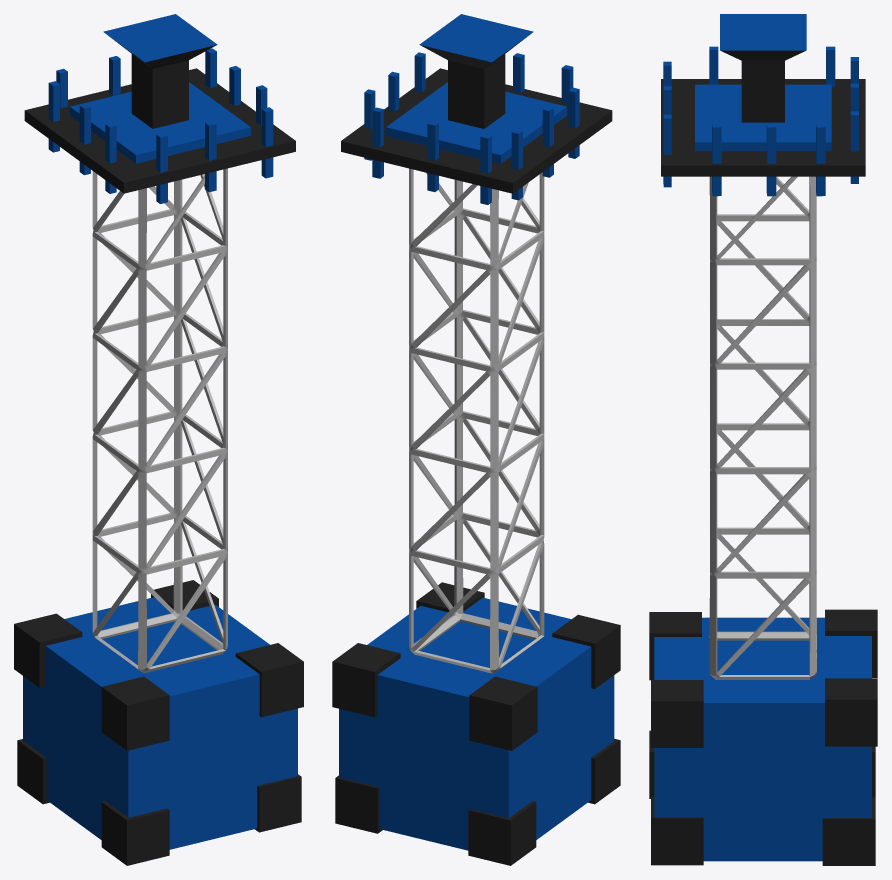
File: Blue Borj Electric.fbx
The picture shows the model from 3 angles, left to right: view 1: azimuth 30°, elevation 25°; view 2: azimuth 150°, elevation 25°; view 3: azimuth 270°, elevation 25°; orthographic projection. The views are drawn at different scales.
Parts seen in each view (by area): view 1: polySurface21, polySurface23, polySurface22, polySurface10, polySurface11, polySurface12, polySurface20, polySurface9, polySurface14, polySurface13, polySurface16, polySurface18 (+4 smaller); view 2: polySurface21, polySurface23, polySurface22, polySurface20, polySurface14, polySurface13, polySurface10, polySurface6, polySurface11, polySurface12, polySurface2, polySurface3 (+4 smaller); view 3: polySurface21, polySurface22, polySurface23, polySurface13, polySurface12, polySurface9, polySurface6, polySurface20, polySurface10, polySurface19, polySurface8, polySurface15 (+1 smaller).
Part boxes in pixels (box(x1,y1,x2,y2)): polySurface21: box(23, 597, 297, 849); polySurface23: box(92, 168, 227, 673); polySurface22: box(24, 14, 295, 193); polySurface10: box(101, 676, 169, 750); polySurface11: box(101, 801, 169, 865); polySurface12: box(235, 643, 303, 717); polySurface20: box(14, 613, 82, 687); polySurface9: box(255, 774, 301, 832); polySurface14: box(17, 739, 49, 804); polySurface13: box(151, 580, 218, 610); polySurface16: box(261, 107, 273, 178); polySurface18: box(205, 121, 216, 192); polySurface21: box(339, 597, 614, 850); polySurface23: box(409, 168, 544, 673); polySurface22: box(341, 14, 612, 193); polySurface20: box(469, 676, 537, 750); polySurface14: box(468, 801, 536, 865); polySurface13: box(332, 643, 400, 717); polySurface10: box(552, 614, 620, 688); polySurface6: box(335, 775, 382, 833); polySurface11: box(588, 738, 620, 804); polySurface12: box(416, 582, 484, 612); polySurface2: box(372, 107, 383, 178); polySurface3: box(480, 134, 491, 204); polySurface21: box(654, 617, 871, 861); polySurface22: box(661, 14, 865, 176); polySurface23: box(709, 176, 816, 679); polySurface13: box(825, 678, 877, 746); polySurface12: box(651, 680, 703, 747); polySurface9: box(651, 797, 703, 865); polySurface6: box(822, 797, 875, 865); polySurface20: box(825, 609, 877, 677); polySurface10: box(649, 612, 701, 680); polySurface19: box(766, 124, 776, 196); polySurface8: box(816, 124, 825, 196); polySurface15: box(712, 124, 721, 196).
Bounding box in the file's own units: 14.87 × 60.51 × 15.86.
